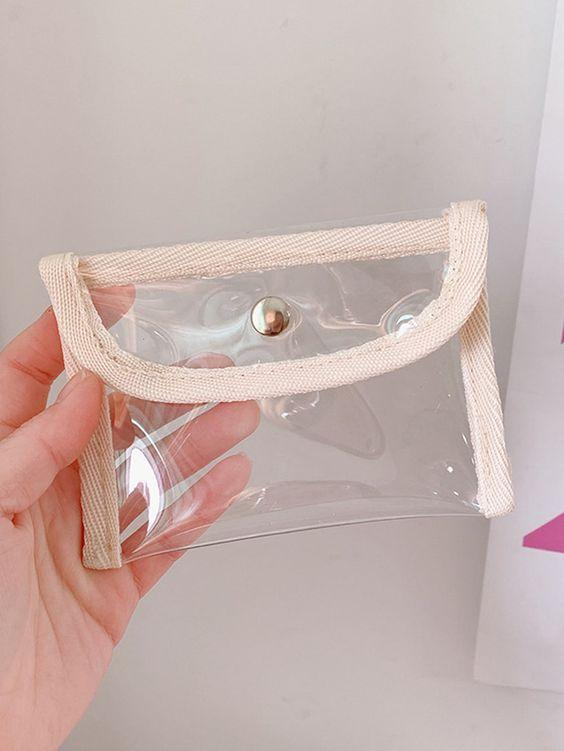LDPE: (110, 257, 483, 522)
